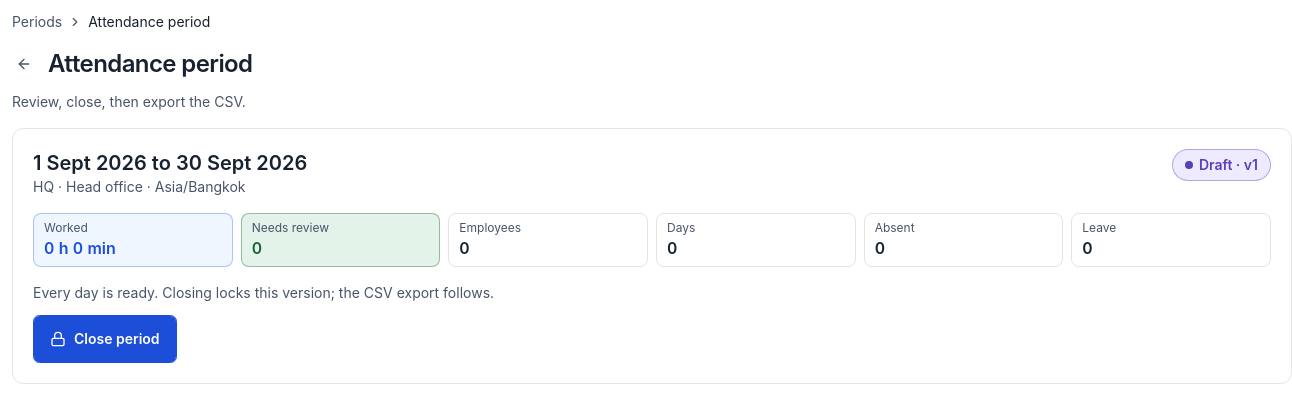
Test: native Back collapses Period close confirmation before page departure
Click the button with test id "hr-period-close". click: (105, 339)
box: [33, 315, 177, 363]
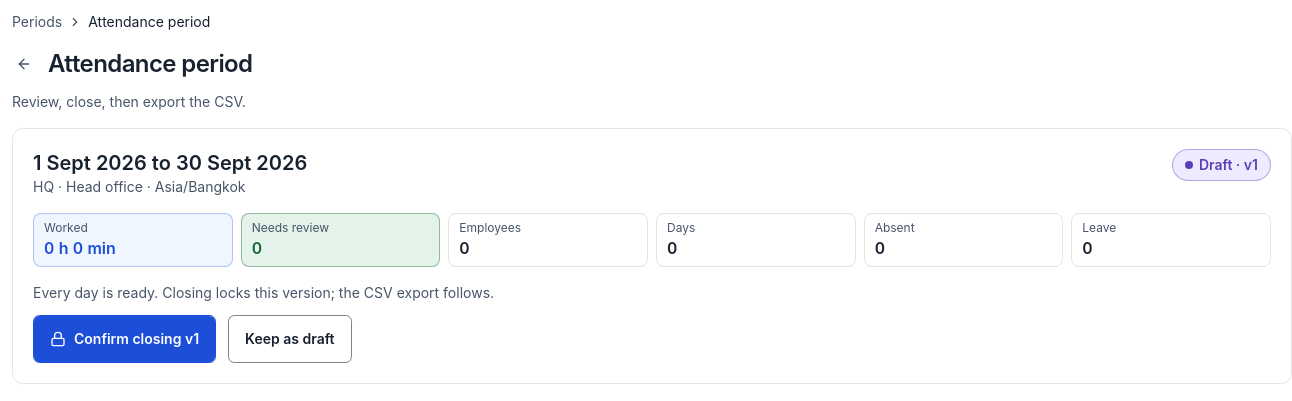
Expected: the button with test id "hr-period-close-confirm" is shown, [33, 315, 216, 363]
